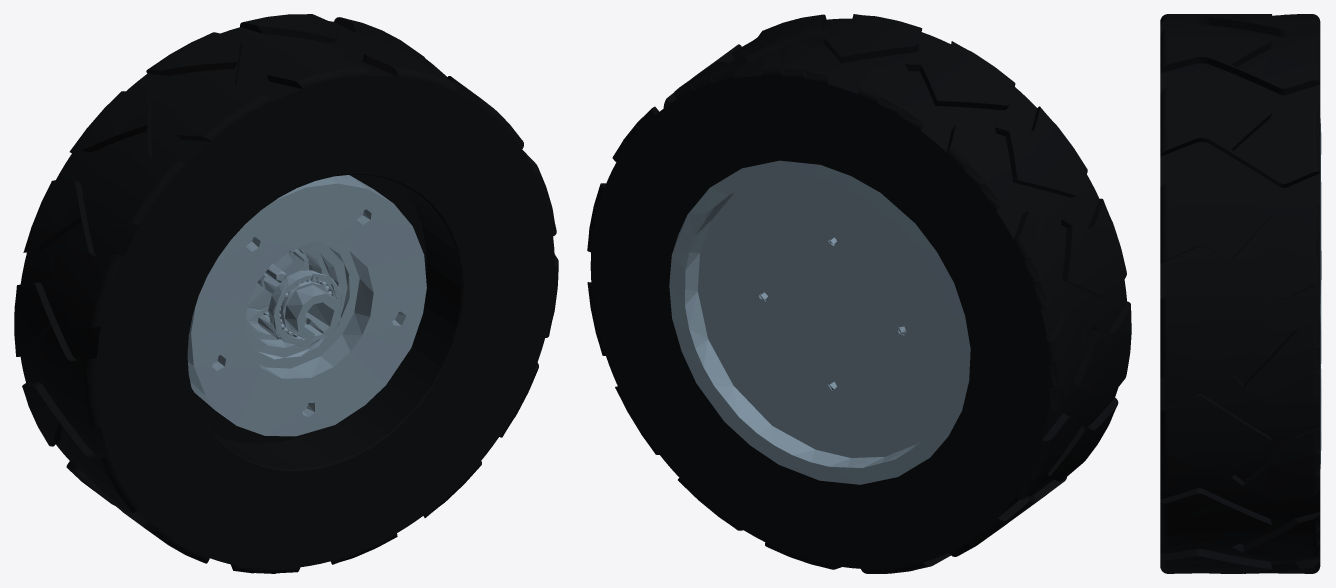
File: wheel_FL.dae
3 renders of one model, left to right at view 1: azimuth 30°, elevation 25°; view 2: azimuth 150°, elevation 25°; view 3: azimuth 270°, elevation 25°, orthographic. The views are drawn at different scales.
Visible parts, largest first — view 1: node; view 2: node; view 3: node.
Boxes of the visible parts, x1,y1,x2,y2 form: node: (14, 14, 558, 573); node: (587, 14, 1131, 573); node: (1160, 14, 1321, 573).
Size of the model in its own units: 0.35 by 0.1009 by 0.35.
